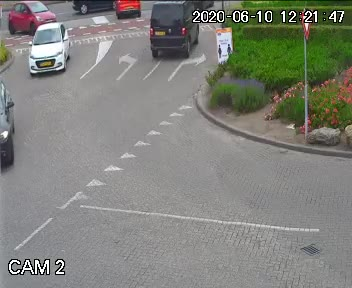car: (137, 5, 204, 65), (25, 20, 78, 81), (7, 3, 57, 34), (72, 0, 115, 14), (112, 0, 142, 20)
